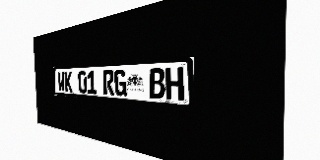0: (78, 71, 87, 93)
1: (87, 70, 96, 94)
B: (149, 68, 165, 99)
G: (114, 69, 127, 96)
H: (165, 67, 184, 101)
K: (64, 71, 72, 92)
R: (103, 70, 114, 95)
W: (58, 72, 65, 92)
